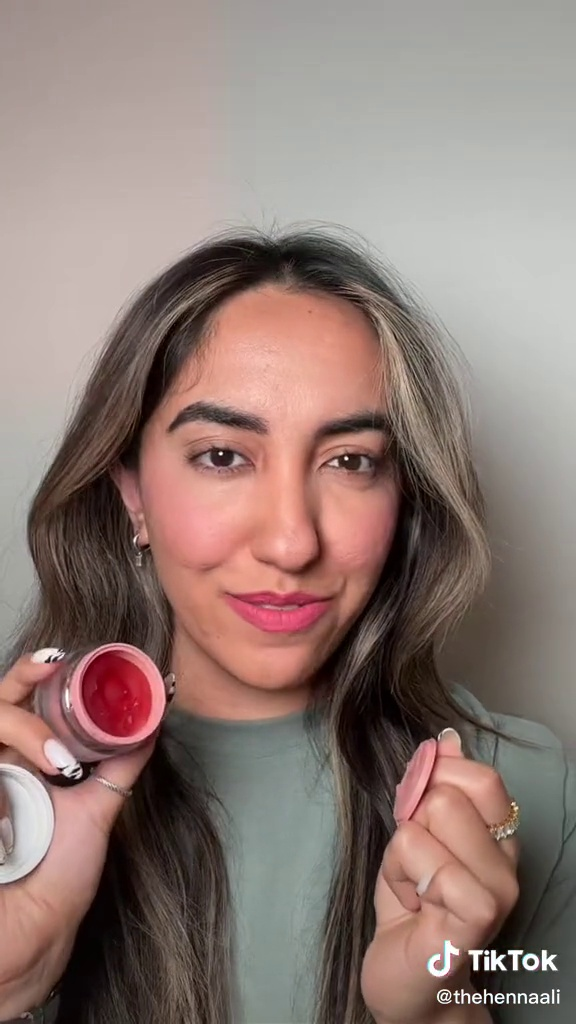train' :'yolo_data/train/images',: (33, 635, 180, 775)
